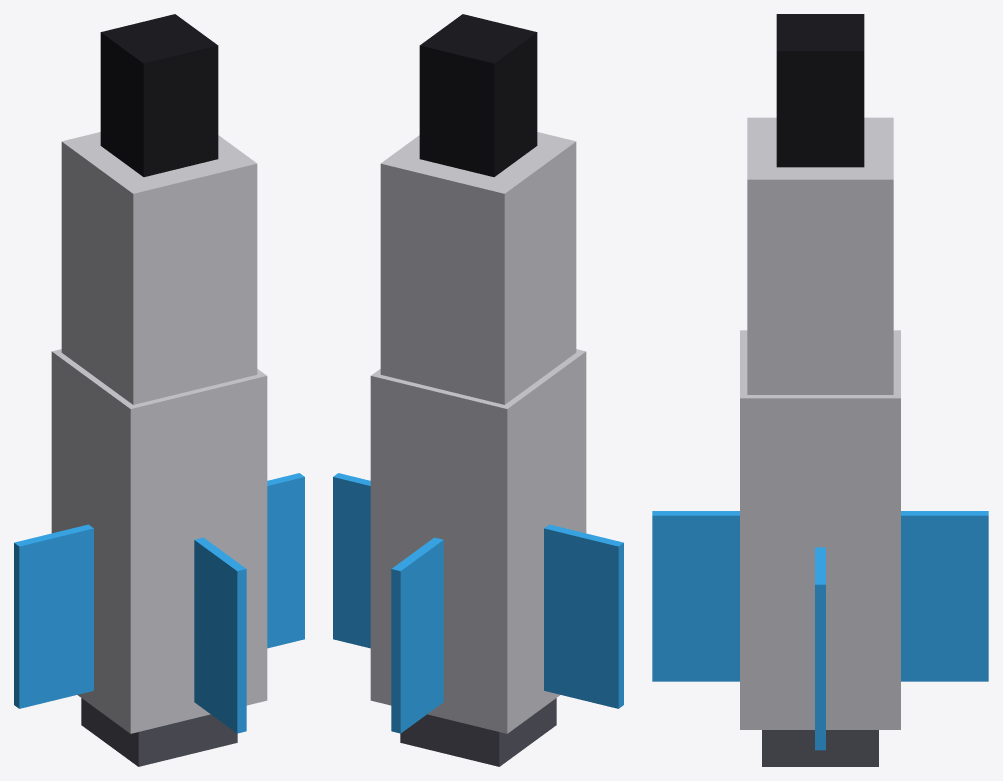
File: starship_apollo.obj
3 renders of one model, left to right at view 1: azimuth 30°, elevation 25°; view 2: azimuth 150°, elevation 25°; view 3: azimuth 270°, elevation 25°, orthographic. The views are drawn at different scales.
Parts seen in each view (by area): view 1: Main_Fuel_Tank, Command_Cabin, Nosecone, Fin_West, Fin_North, Fin_East, Booster_Engine; view 2: Main_Fuel_Tank, Command_Cabin, Nosecone, Fin_West, Fin_South, Fin_East, Booster_Engine; view 3: Main_Fuel_Tank, Command_Cabin, Fin_North, Fin_South, Nosecone, Booster_Engine, Fin_East.
Part boxes in pixels (x1=…): Main_Fuel_Tank: x1=51, y1=349, x2=267, y2=733; Command_Cabin: x1=61, y1=132, x2=257, y2=404; Nosecone: x1=100, y1=14, x2=218, y2=176; Fin_West: x1=14, y1=524, x2=93, y2=708; Fin_North: x1=194, y1=537, x2=246, y2=733; Fin_East: x1=267, y1=473, x2=304, y2=648; Booster_Engine: x1=81, y1=698, x2=237, y2=766; Main_Fuel_Tank: x1=370, y1=349, x2=586, y2=733; Command_Cabin: x1=380, y1=132, x2=576, y2=404; Nosecone: x1=419, y1=14, x2=537, y2=176; Fin_West: x1=544, y1=524, x2=623, y2=708; Fin_South: x1=391, y1=537, x2=443, y2=733; Fin_East: x1=333, y1=473, x2=370, y2=648; Booster_Engine: x1=400, y1=698, x2=556, y2=766; Main_Fuel_Tank: x1=740, y1=330, x2=900, y2=729; Command_Cabin: x1=747, y1=117, x2=893, y2=394; Fin_North: x1=652, y1=511, x2=739, y2=681; Fin_South: x1=901, y1=511, x2=988, y2=681; Nosecone: x1=776, y1=14, x2=864, y2=167; Booster_Engine: x1=762, y1=730, x2=878, y2=766; Fin_East: x1=815, y1=547, x2=825, y2=750.
Bounding box in the file's own units: 4.6 × 10.7 × 4.6.
